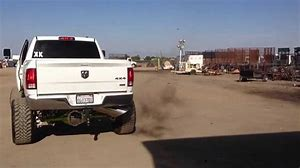smoke: (132, 85, 184, 136)
